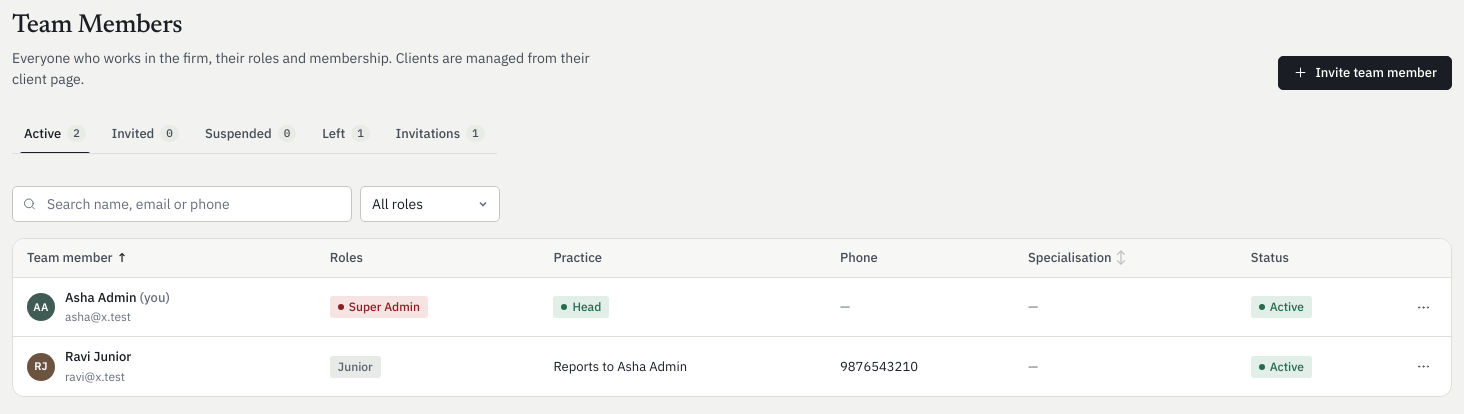
Test: Team Members page (merged with invitations) › keeps the profile table (phone, practice) with status tabs
Expected: the text "Ravi Junior" is shown, [65,347,131,367]
Expected: the text "9876543210" is shown, [840,358,918,375]
Click the tab "Left 1": (346, 134) [310,114,382,153]
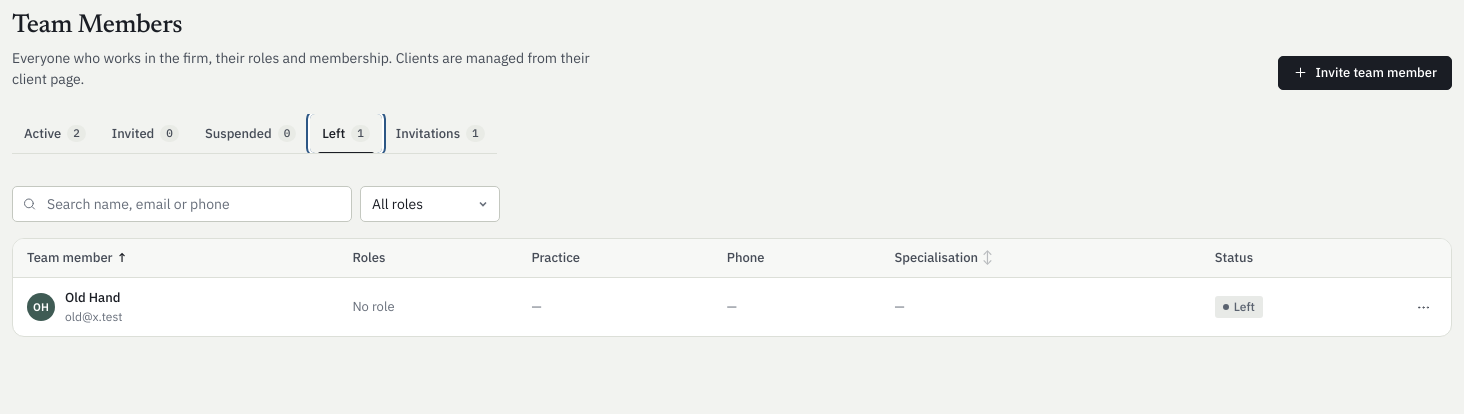
Expected: the text "Old Hand" is shown, [65,288,122,307]
Click the tab "Invitations 1": (440, 134) [384,114,497,153]
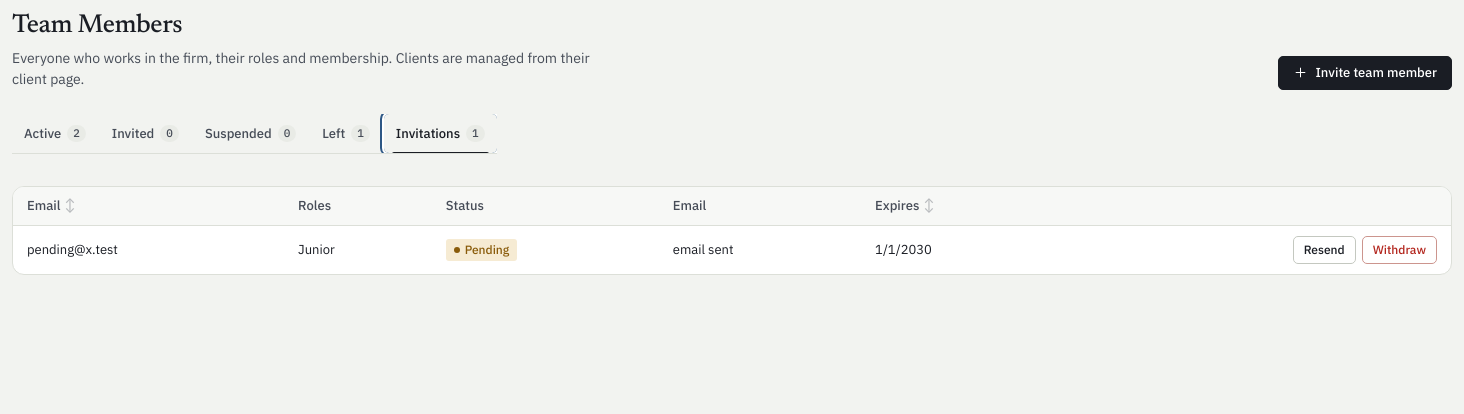
Expected: the text "pending@x.test" is shown, [13,226,284,274]
